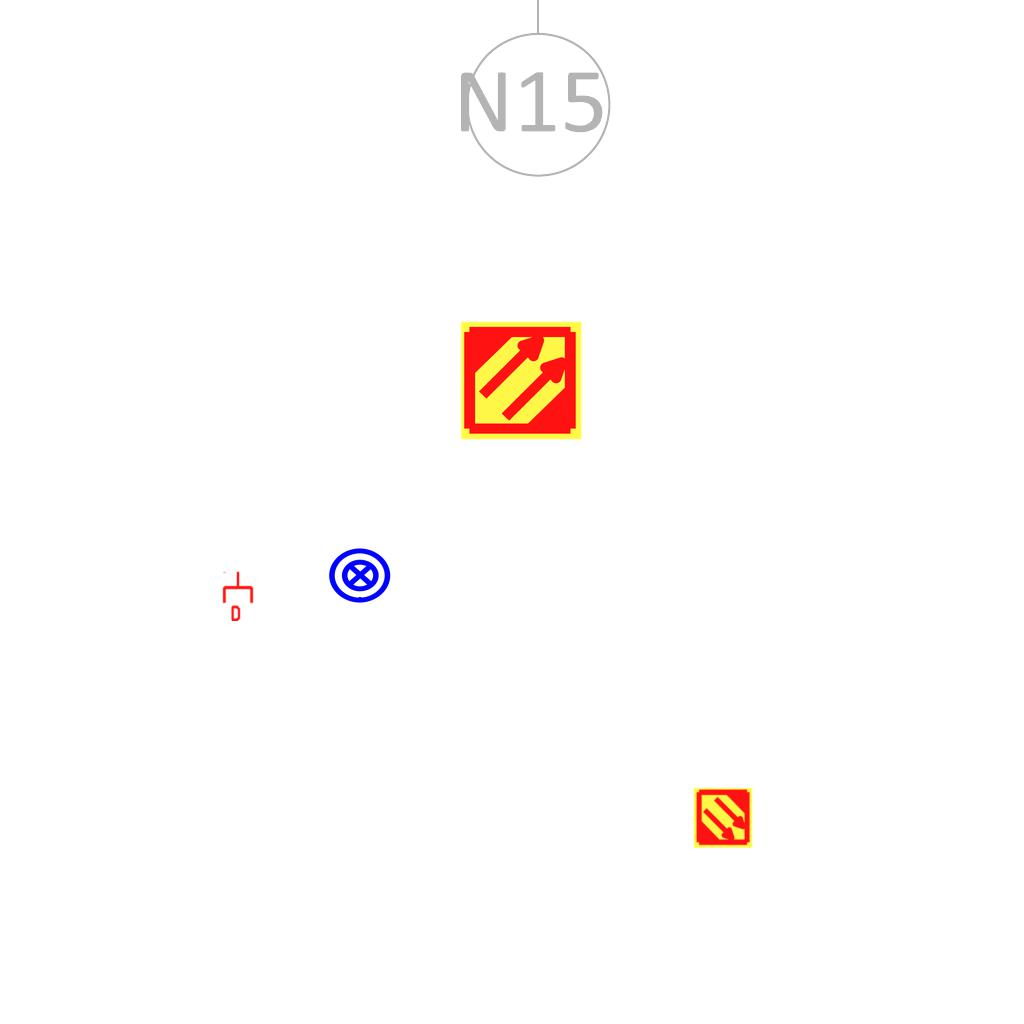ASR_Ansaugrauchmelder: (459, 318, 584, 443), (692, 787, 754, 849)
Datenanschluss_einfach: (221, 571, 255, 621)
Taster_beleuchtet: (327, 542, 393, 608)
